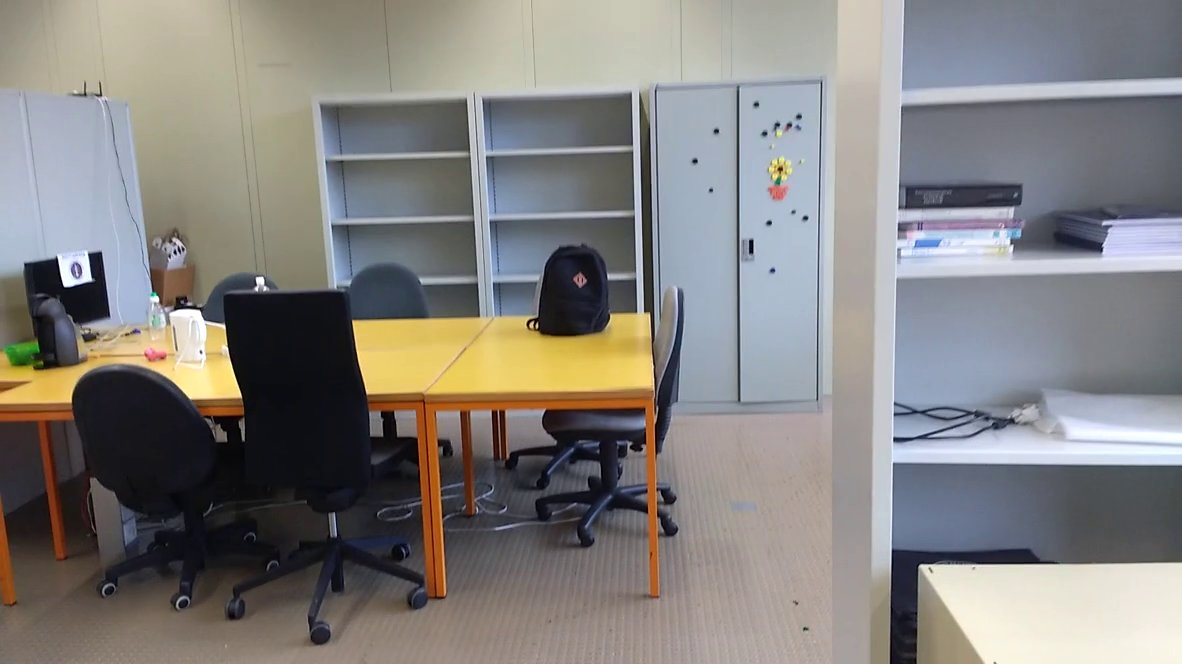bag: (518, 239, 616, 343)
chair: (215, 281, 454, 641), (51, 350, 270, 629), (532, 273, 701, 557), (333, 258, 440, 336)
